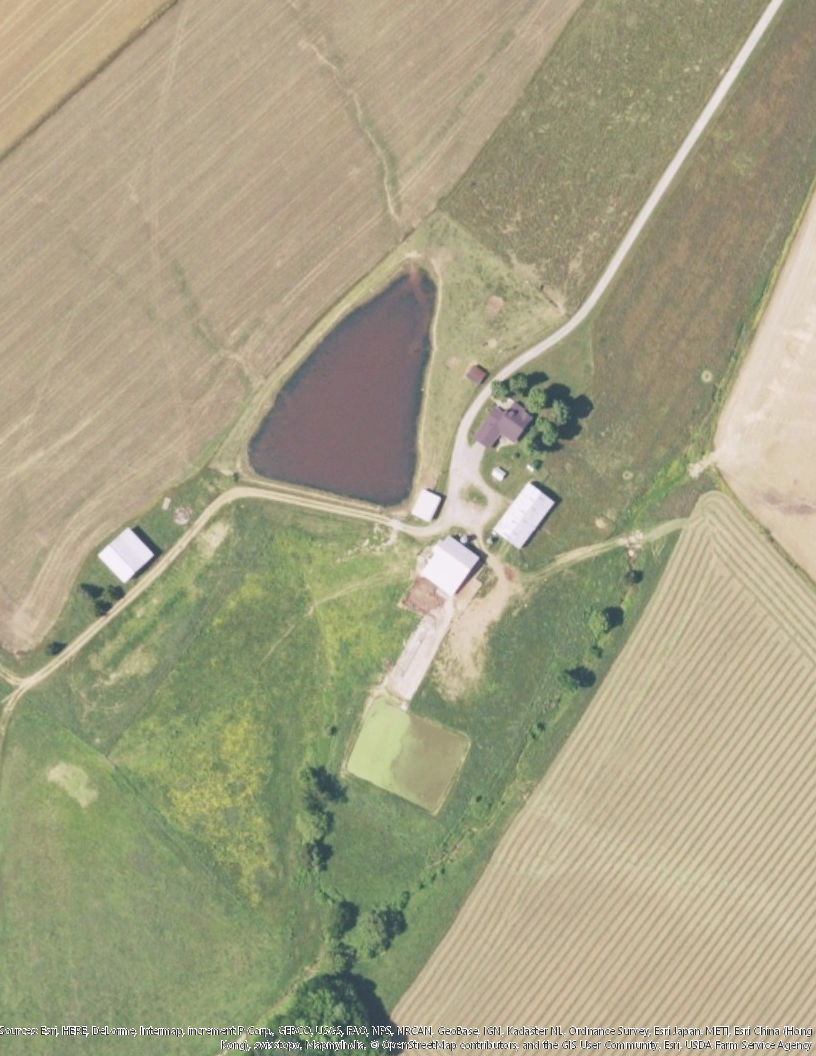cafo: (490, 475, 561, 550), (417, 533, 481, 598)
